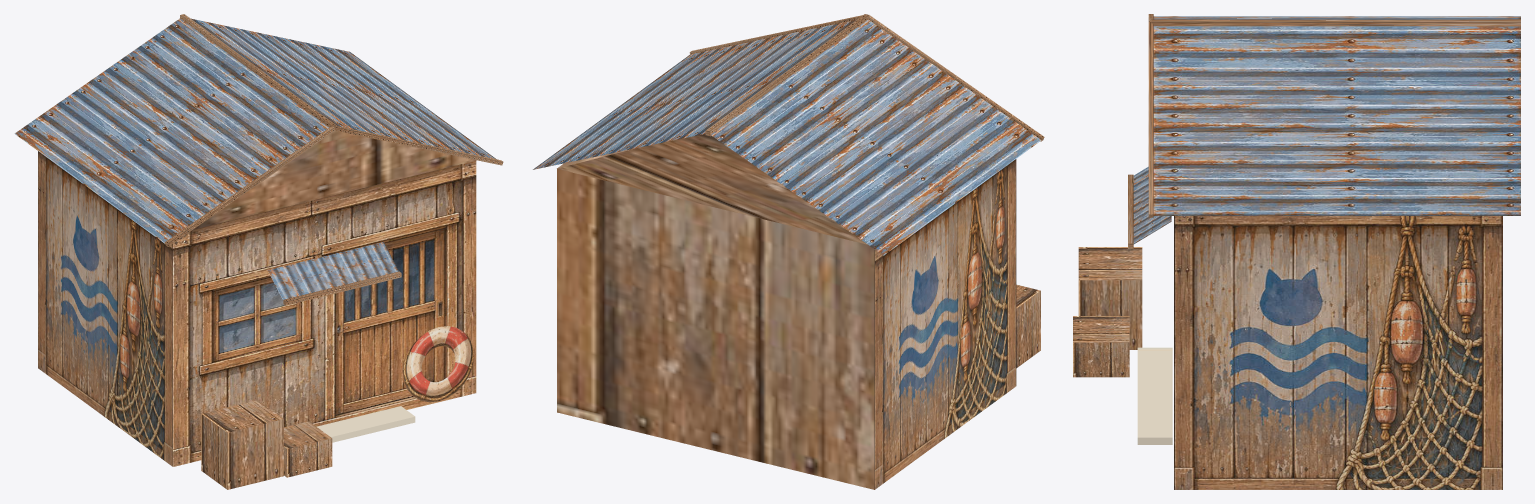
Rendered from nyanisyarud-harbor-hut.glb.
3 views of the same model, side by side, from view 1: azimuth 30°, elevation 25°; view 2: azimuth 150°, elevation 25°; view 3: azimuth 270°, elevation 25° (orthographic). The views are drawn at different scales.
Visible parts, largest first — view 1: Fishing_Work_Hut; view 2: Fishing_Work_Hut; view 3: Fishing_Work_Hut.
Part boxes in pixels (left/top/right/bottom): Fishing_Work_Hut: left=14, top=14, right=503, bottom=489; Fishing_Work_Hut: left=533, top=14, right=1044, bottom=489; Fishing_Work_Hut: left=1073, top=14, right=1520, bottom=489.
Size of the model in its own units: 2.09 by 1.84 by 1.97.
Materials: 1 (1 with a texture image).
